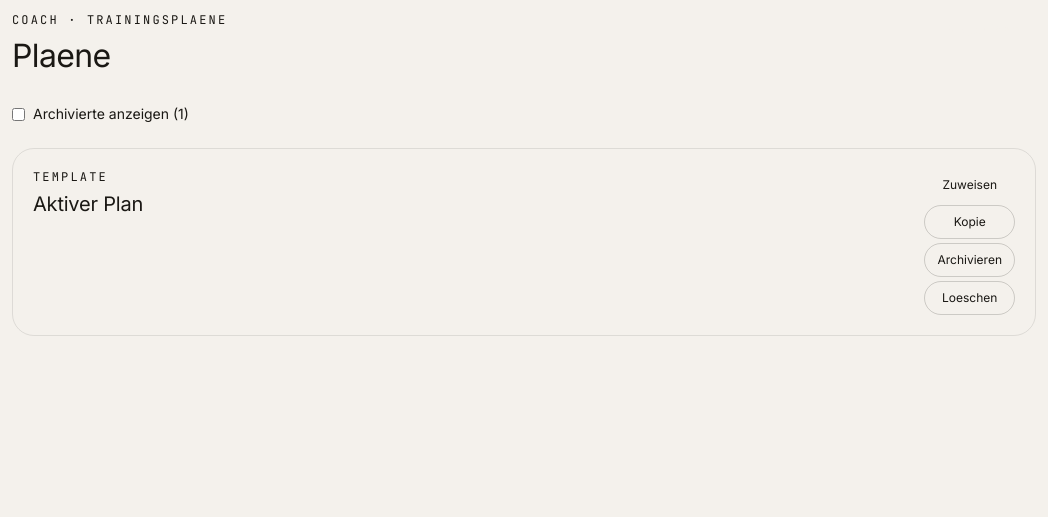
PlansPage › filtert archivierte Plaene per Default und zeigt Toggle bei archivierten Eintraegen
Expected: the heading "Aktiver Plan" is shown, x1=33 y1=192 x2=143 y2=216
Expected: the text "Alter Plan" is not shown
Click the checkbox labelled "Archivierte anzeigen (1)" at (18, 114), box x1=12 y1=108 x2=25 y2=120
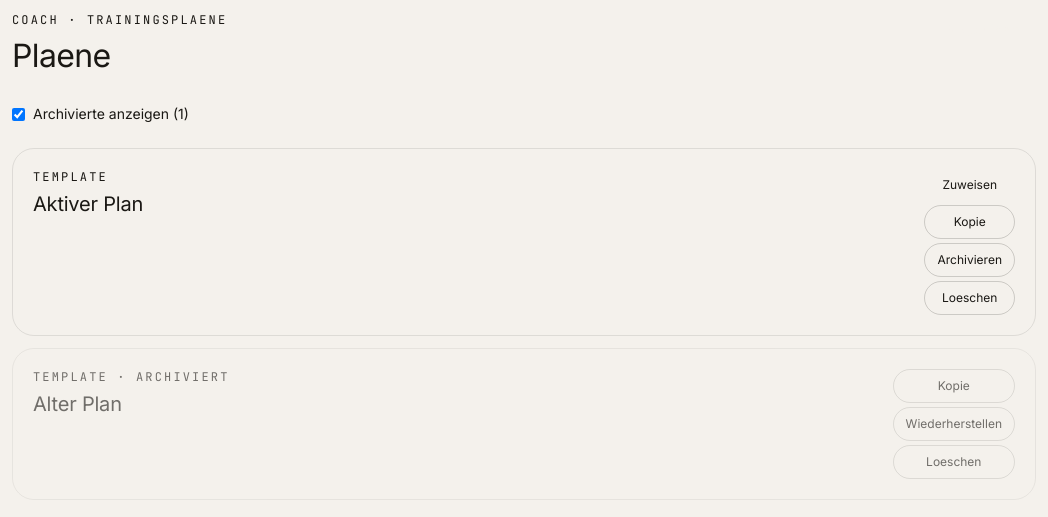
Expected: the text "Archivierte anzeigen (1)" is shown, x1=12 y1=105 x2=189 y2=122
Now the heading "Alter Plan" is shown, box x1=33 y1=392 x2=122 y2=416
